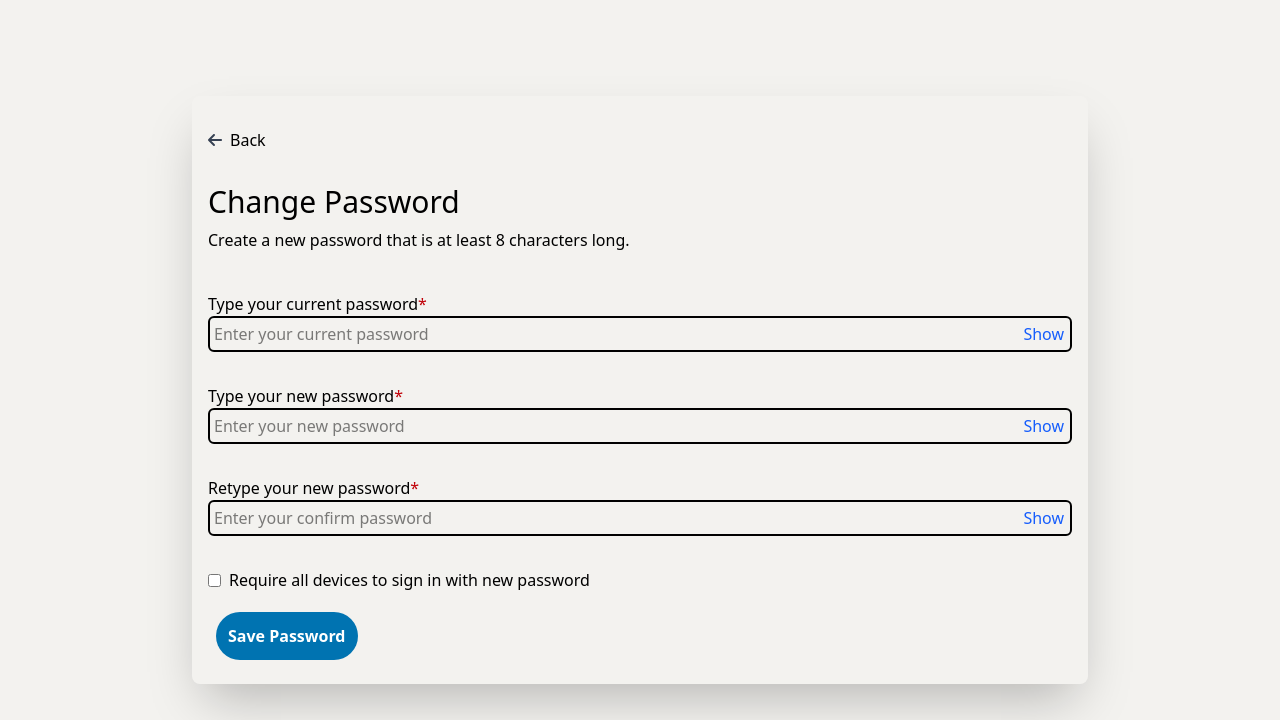
Test: UpdatePasswordForm › shows validation errors for short passwords
The width and height of the screenshot is (1280, 720).
Note: Enter short passwords
Type "short" into the password field labelled "Type your new password*". click: point(640, 426)
box: [208, 408, 1072, 444]
(page scrolled)
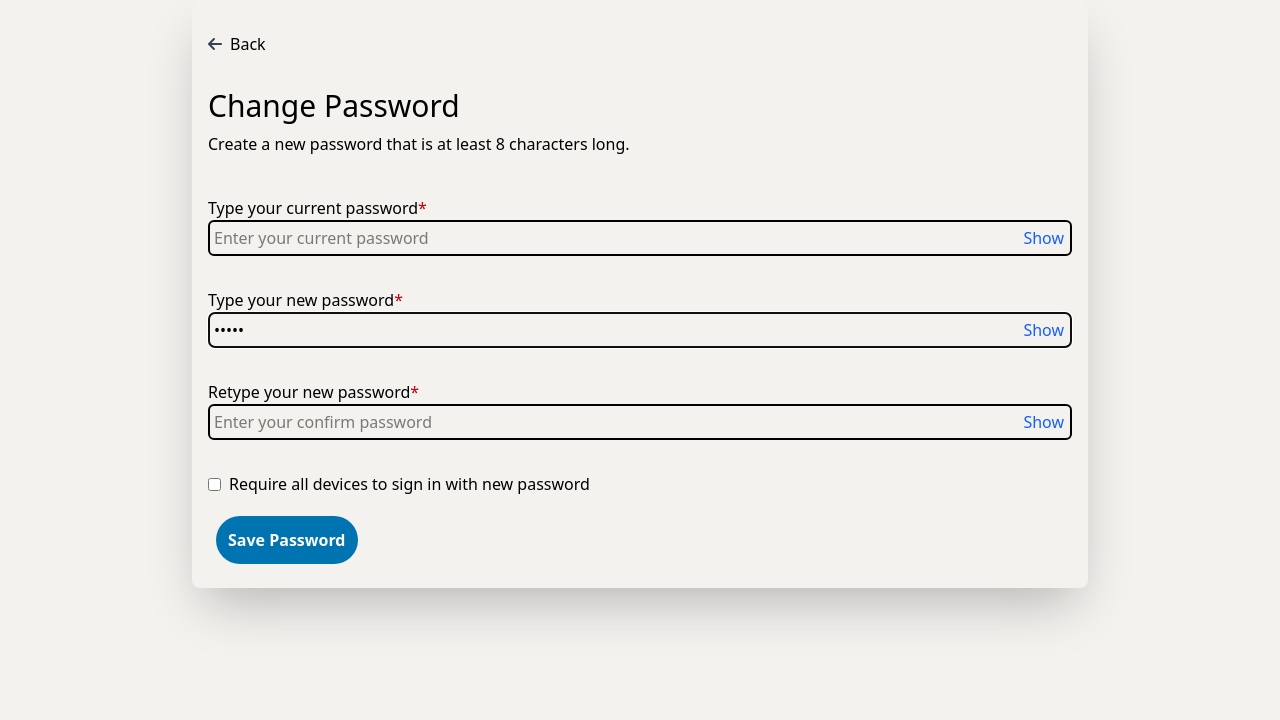
Click the element that starts with "Back". click: point(640, 677)
box: [0, 0, 1279, 719]
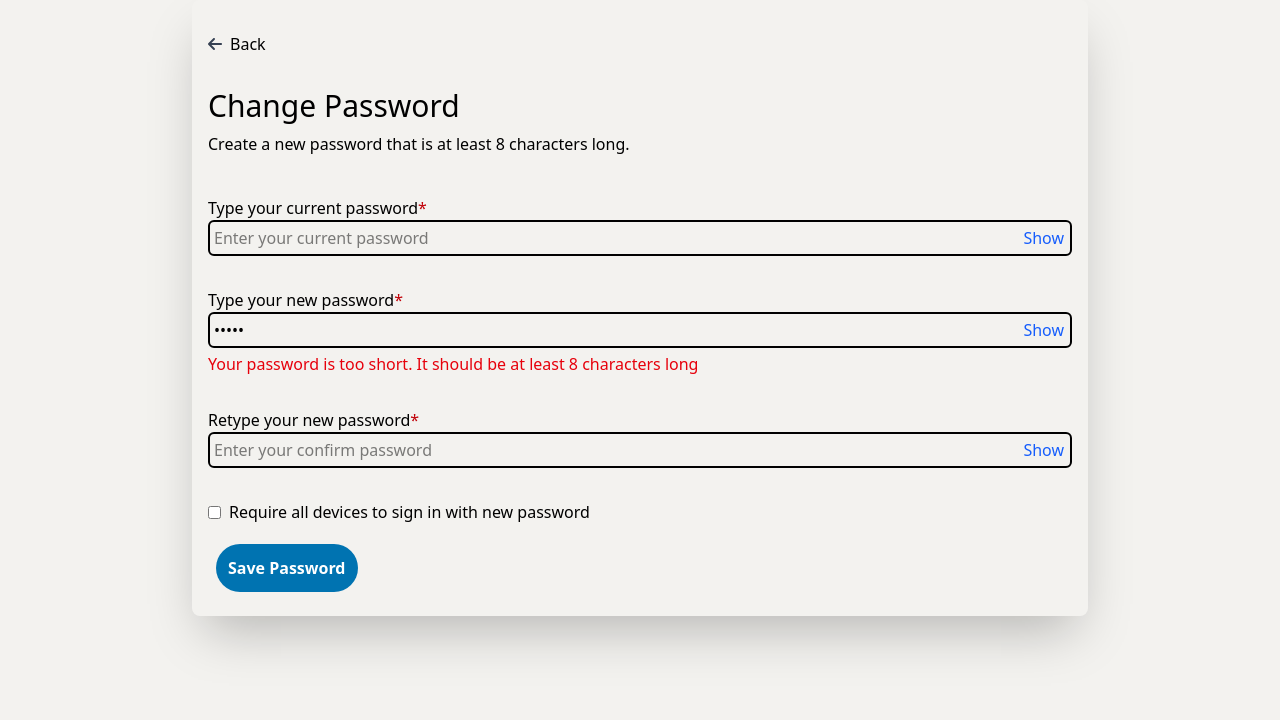
Now the text "Your password is too short. It should be at least 8 characters long" is shown, box [208, 353, 698, 375]
Note: Test confirm password field
Type "short" into the password field labelled "Retype your new password*". click: point(640, 450)
box: [208, 432, 1072, 468]
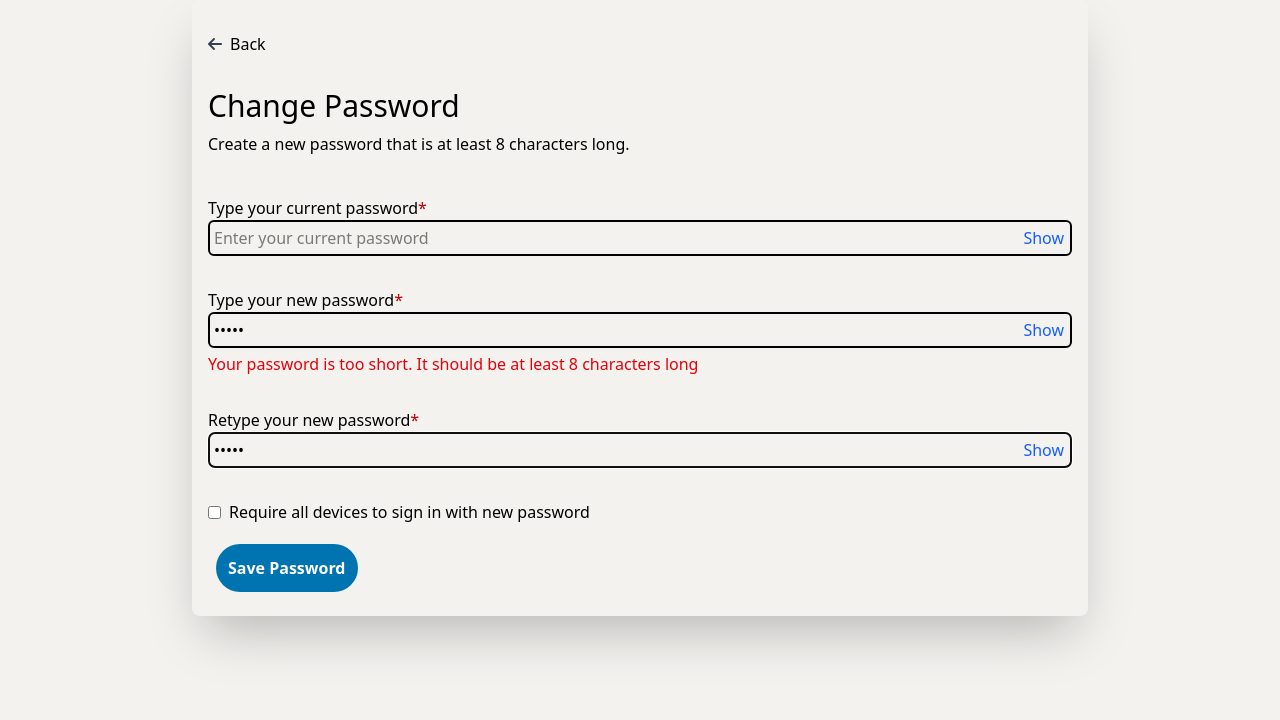
Click the element that starts with "Back". click: point(640, 677)
box: [0, 0, 1279, 719]
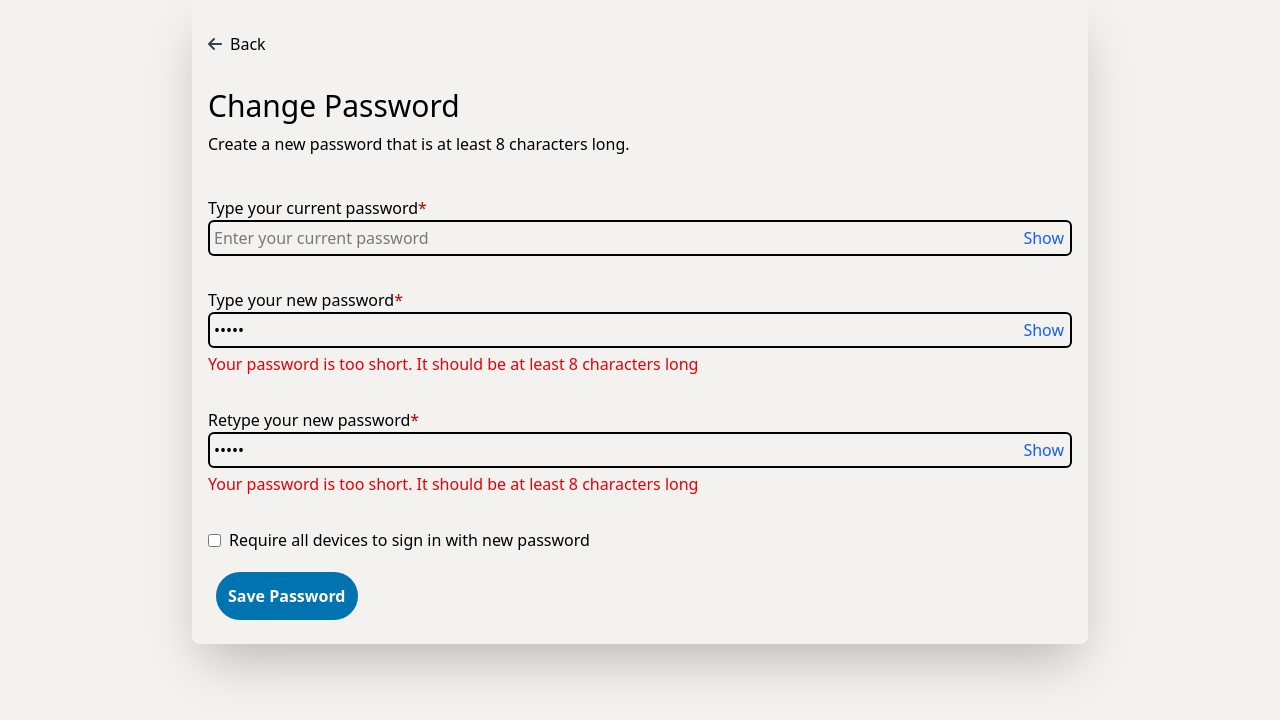
Now the text "Your password is too short. It should be at least 8 characters long" is shown 2 times, box [208, 353, 698, 375]; [208, 473, 698, 495]
